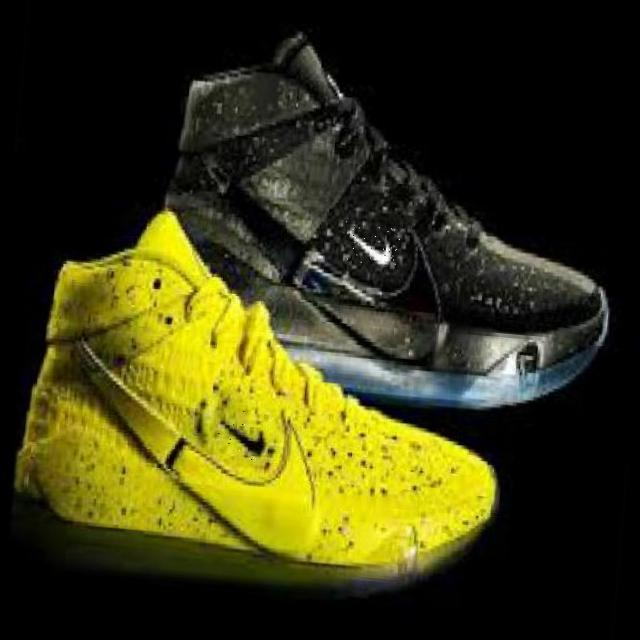Nike: (215, 408, 274, 463), (342, 220, 401, 266)
